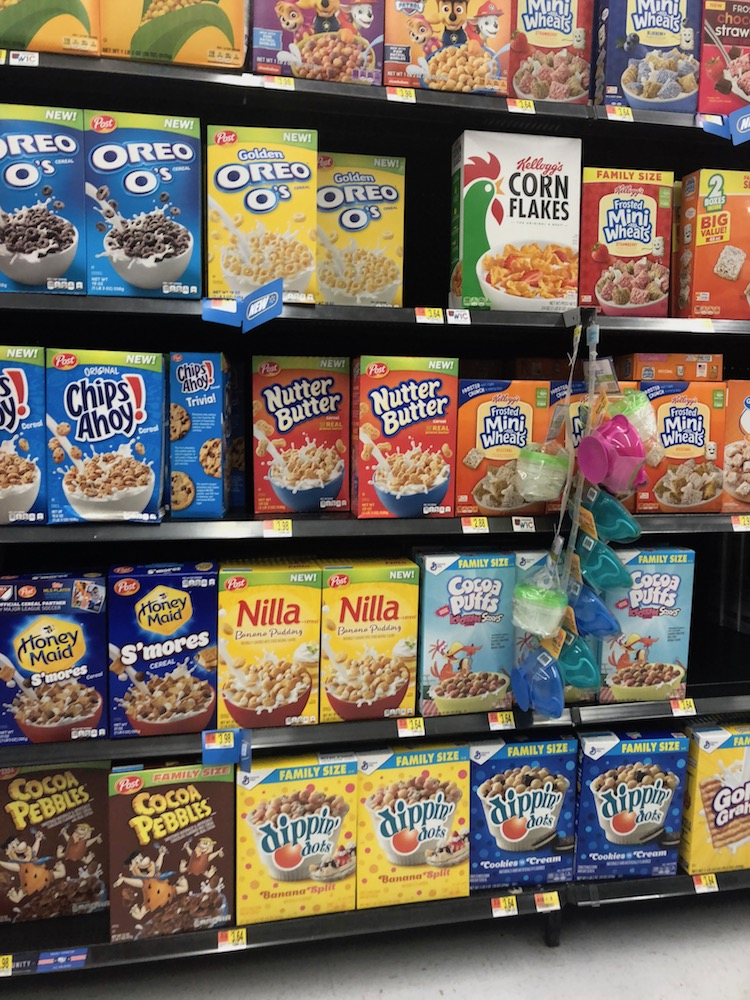Chips Ahoys-565717529: (37, 352, 170, 529)
Cocoa Pebbles-555517893: (105, 786, 242, 932), (1, 776, 112, 928)
Cocoa Puffs Ice Cream-563408546: (603, 546, 694, 698), (425, 556, 512, 706)
Dippin Dots Banana-568929376: (240, 775, 359, 915), (361, 760, 466, 885)
Dippin Dots Cookies & Cream -568929378: (572, 742, 685, 875), (467, 748, 571, 885)
Honey Maid Graham -563424385: (1, 576, 114, 740), (112, 583, 211, 727)
Mini Wheats Straw-567084832: (579, 165, 672, 305)
Nilla -568301014: (318, 557, 420, 714), (218, 576, 324, 726)
Nutter Butter-565717511: (347, 358, 457, 511), (256, 363, 352, 515)
Oreo Golden-568301011: (208, 119, 317, 300), (313, 148, 401, 303)
Oreo-563424384: (82, 119, 204, 298), (1, 119, 84, 290)
